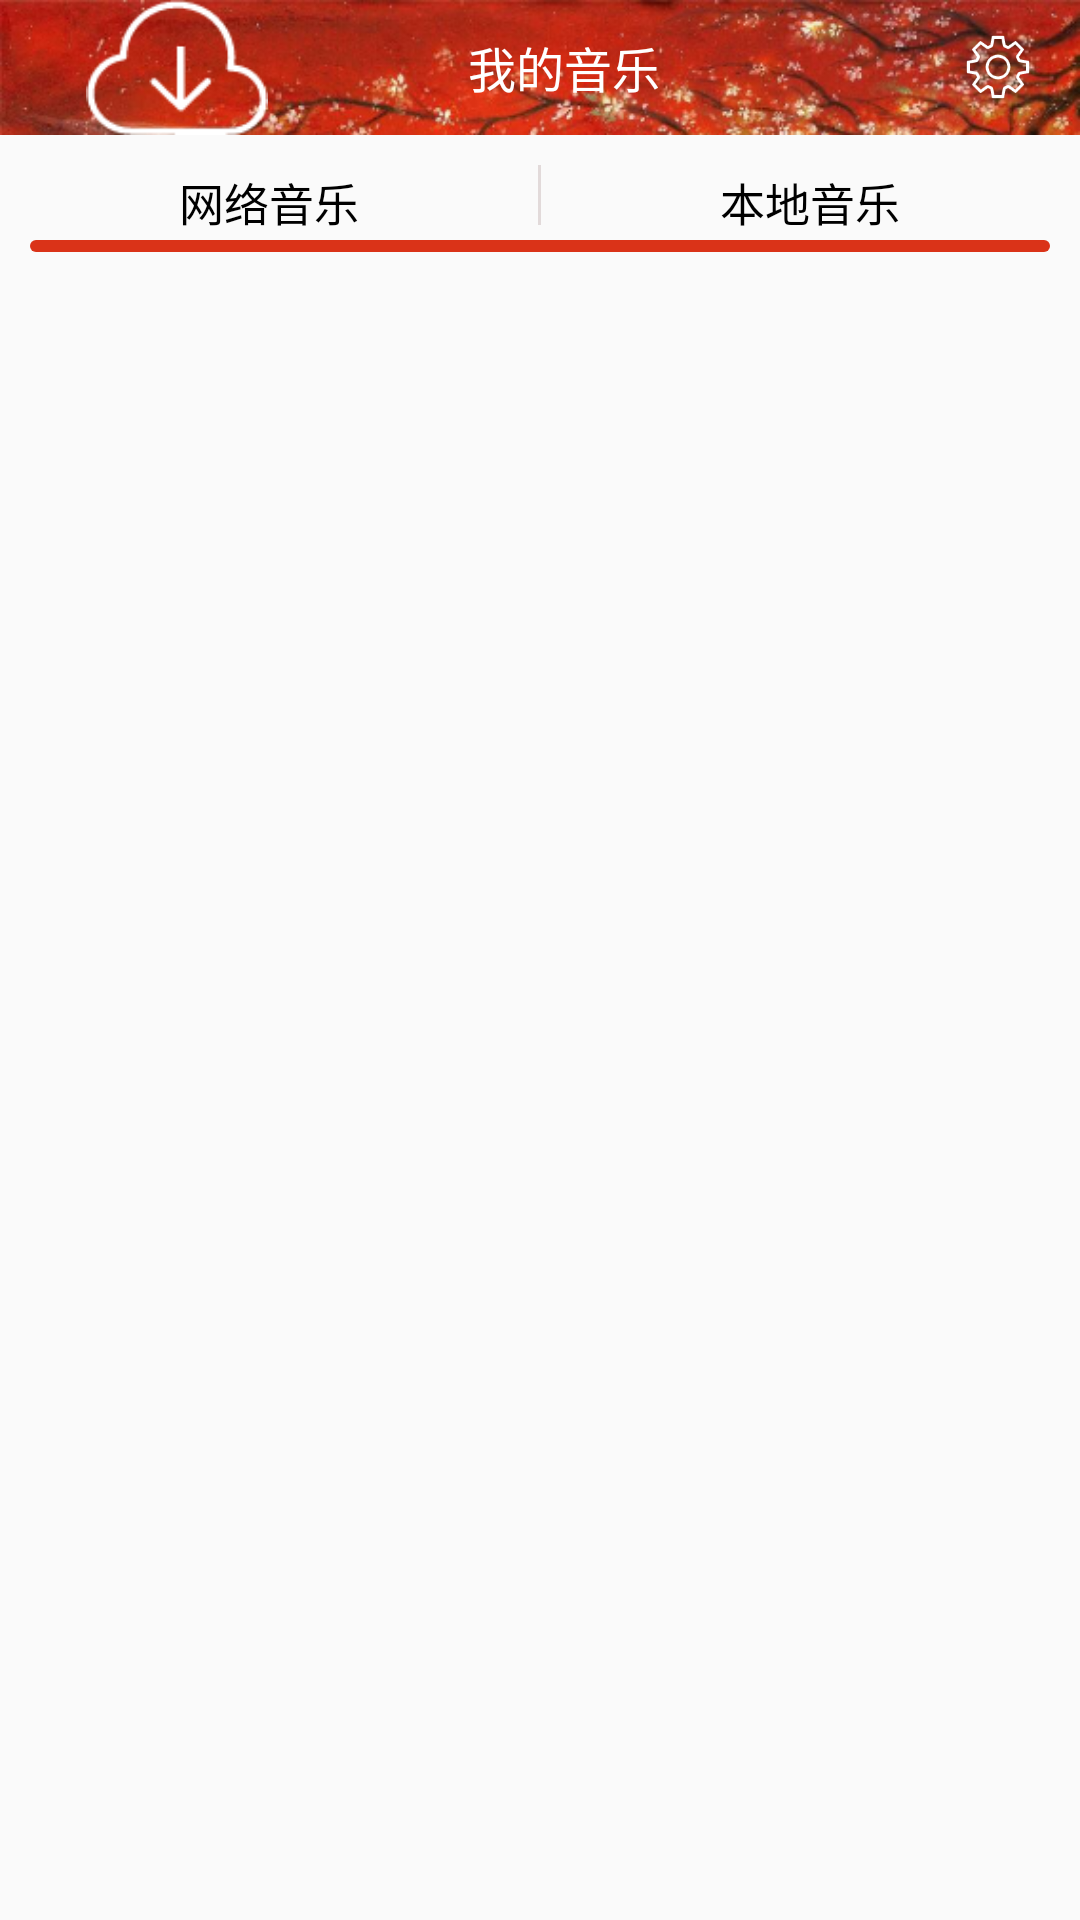

Point at icon controls on the screen. Image size 1080×1920, points as [x,y].
down: [177,67]
